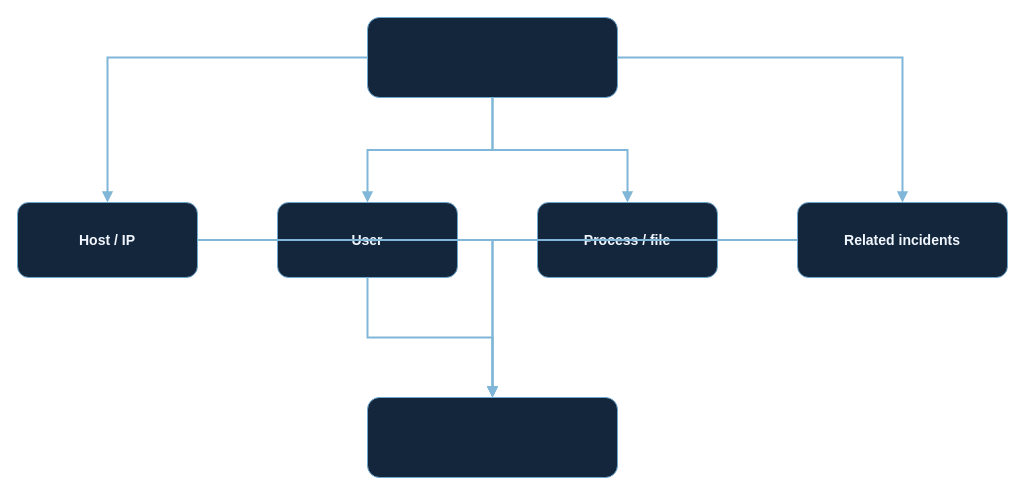
Some shapes in this 1025 by 495 pixel diagram are drawn without their labels. The shapes that lost their labels are listed below. From the top down, each one's box as (x1, y1, x2, y2) in pixels, then its label:
(366, 16, 618, 98): Root incident ID / severity
(366, 396, 618, 478): Timeline playback Time From / To
